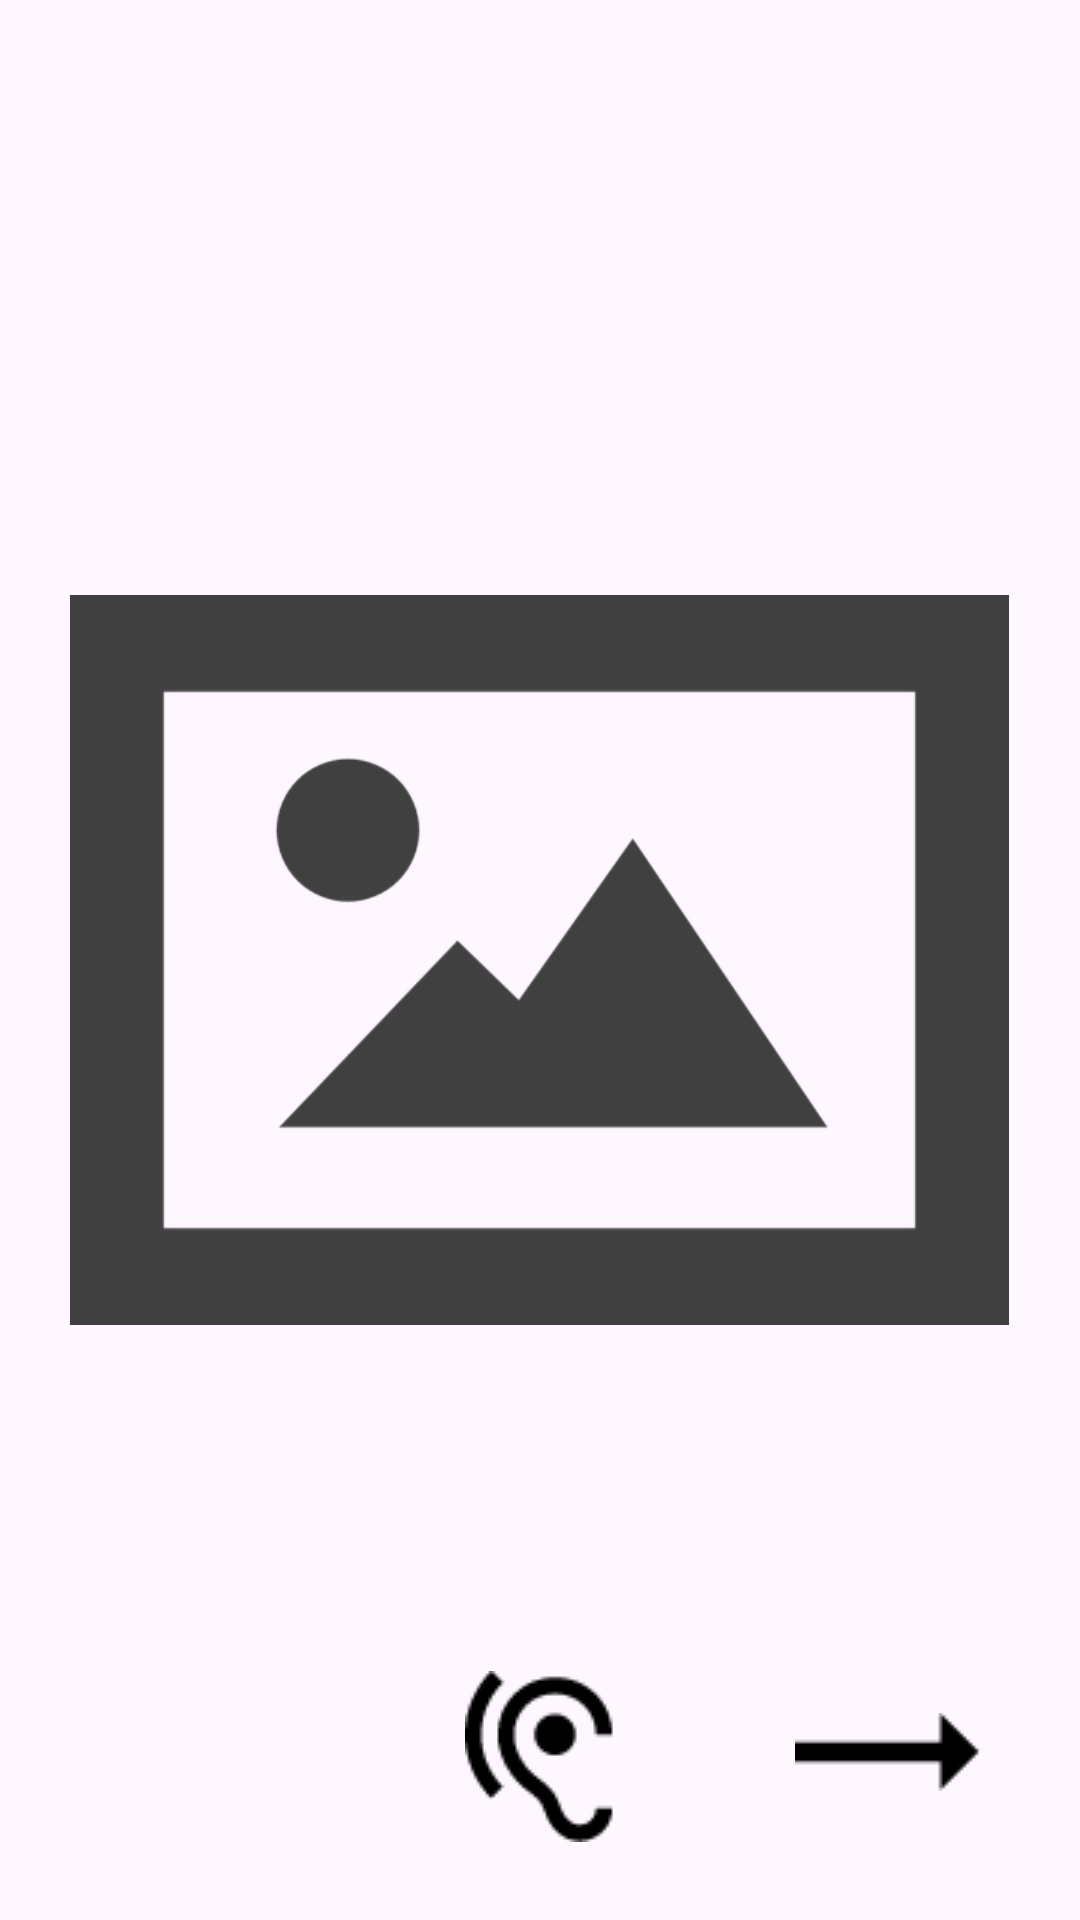

Screen size 1080*1920. Icon name, then its box in pixels as box=[x1, y1, x2, y2]:
pictogram oortje: box=[465, 1671, 613, 1842]
pictogram pijl: box=[795, 1713, 979, 1791]
